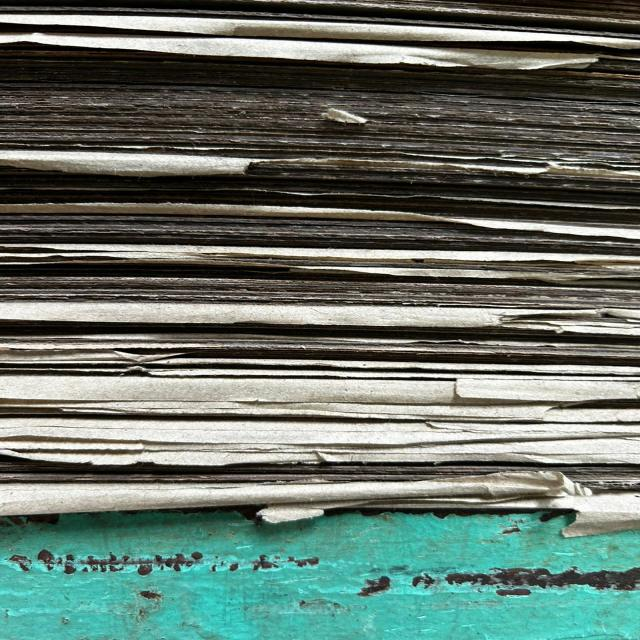sheet: (0, 143, 640, 185), (0, 190, 640, 220), (0, 42, 640, 72), (0, 0, 640, 30), (0, 15, 640, 42), (0, 225, 640, 248), (4, 290, 640, 312), (4, 262, 640, 283), (4, 492, 640, 512), (4, 465, 640, 485), (0, 339, 637, 358), (4, 438, 640, 457), (4, 93, 640, 112), (0, 407, 640, 423), (2, 116, 640, 132), (0, 133, 631, 149), (2, 371, 640, 385), (4, 385, 640, 398)
